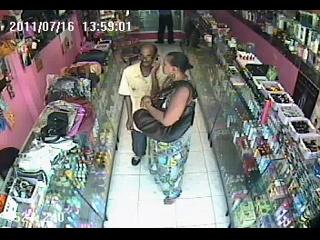Normal: (134, 51, 197, 206), (118, 43, 169, 167), (154, 10, 176, 44), (75, 50, 108, 66)
